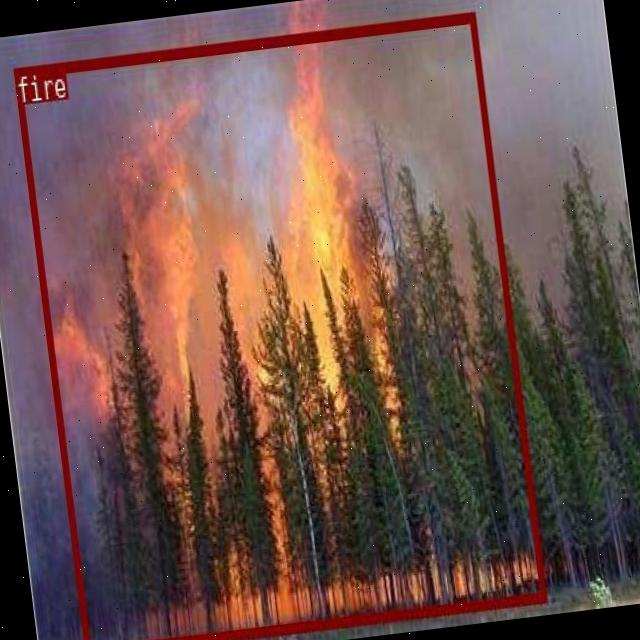fire: (12, 11, 545, 640)
